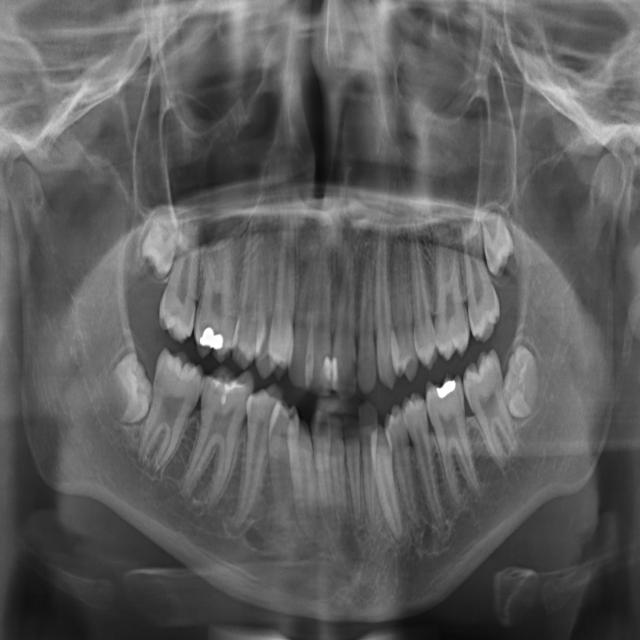AmalgamRestoration: (199, 328, 225, 352), (434, 375, 456, 403)
CompositeResinRestoration: (211, 378, 241, 409), (331, 355, 338, 388), (323, 358, 331, 386)
Crown: (321, 346, 333, 374)
DentalCaries: (347, 358, 361, 385)
